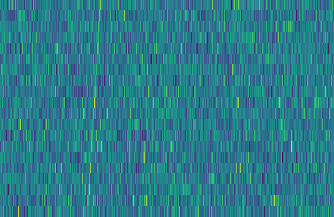signal: (80, 0, 103, 217)
